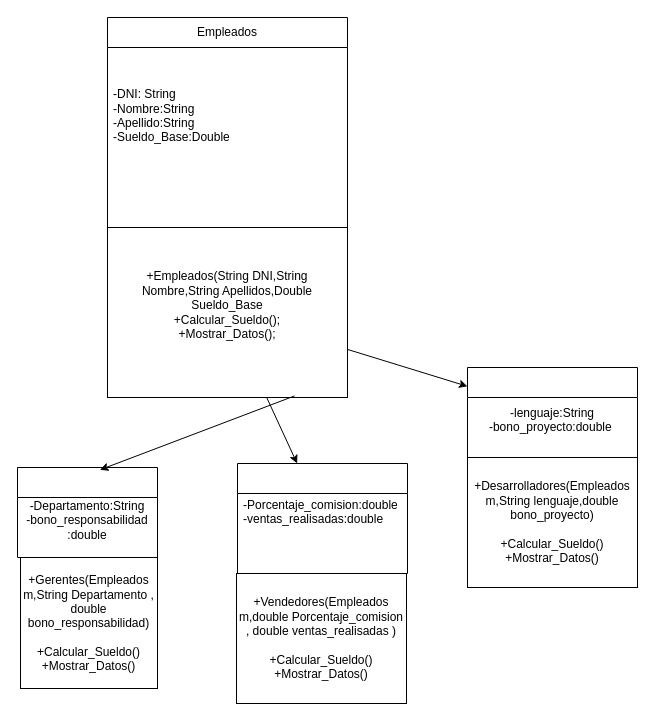
This 655x721 diagram has some shape labels left out. Each missing label, with the box of its shape:
Desarrolladores: (466, 366, 638, 458)
Gerentes: (16, 466, 158, 558)
Vendedores: (236, 462, 408, 574)
